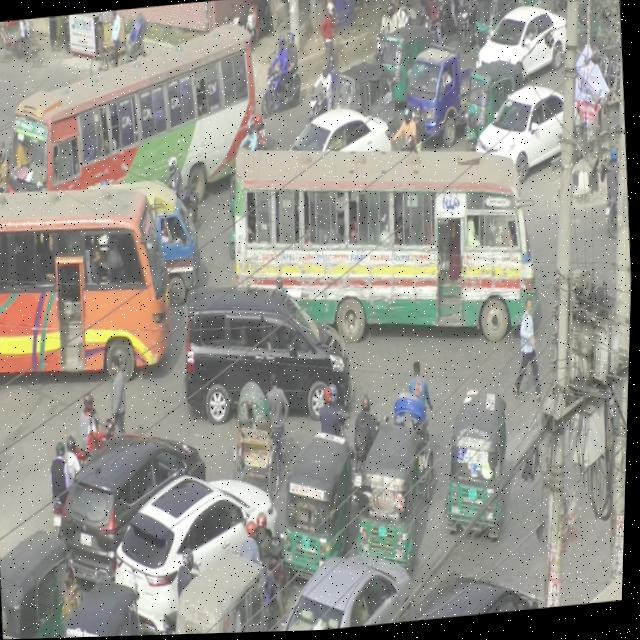cng: (440, 385, 538, 544), (273, 421, 365, 576), (356, 424, 422, 569), (456, 51, 527, 161), (376, 13, 441, 105)
rikshaw: (389, 353, 449, 509), (236, 362, 290, 494), (88, 8, 152, 85)
